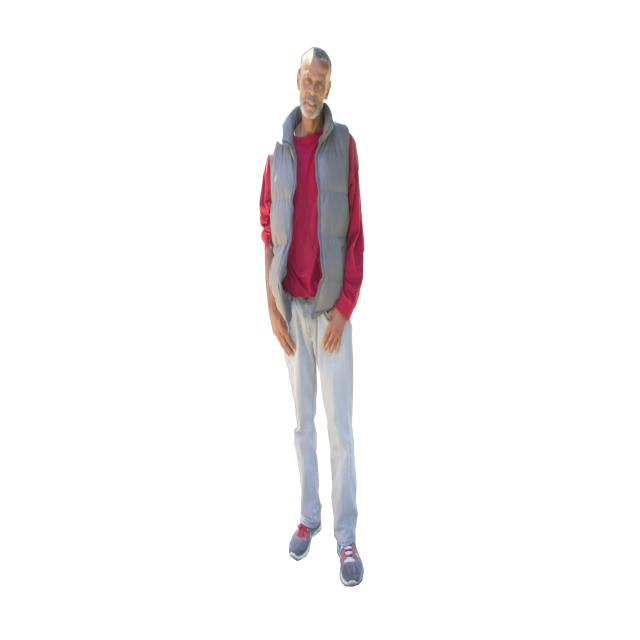jovem: (254, 41, 388, 590)
